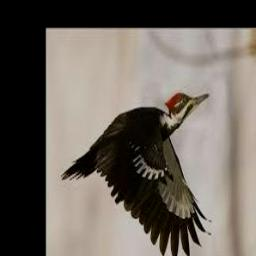Woodpecker: (61, 92, 212, 256)
